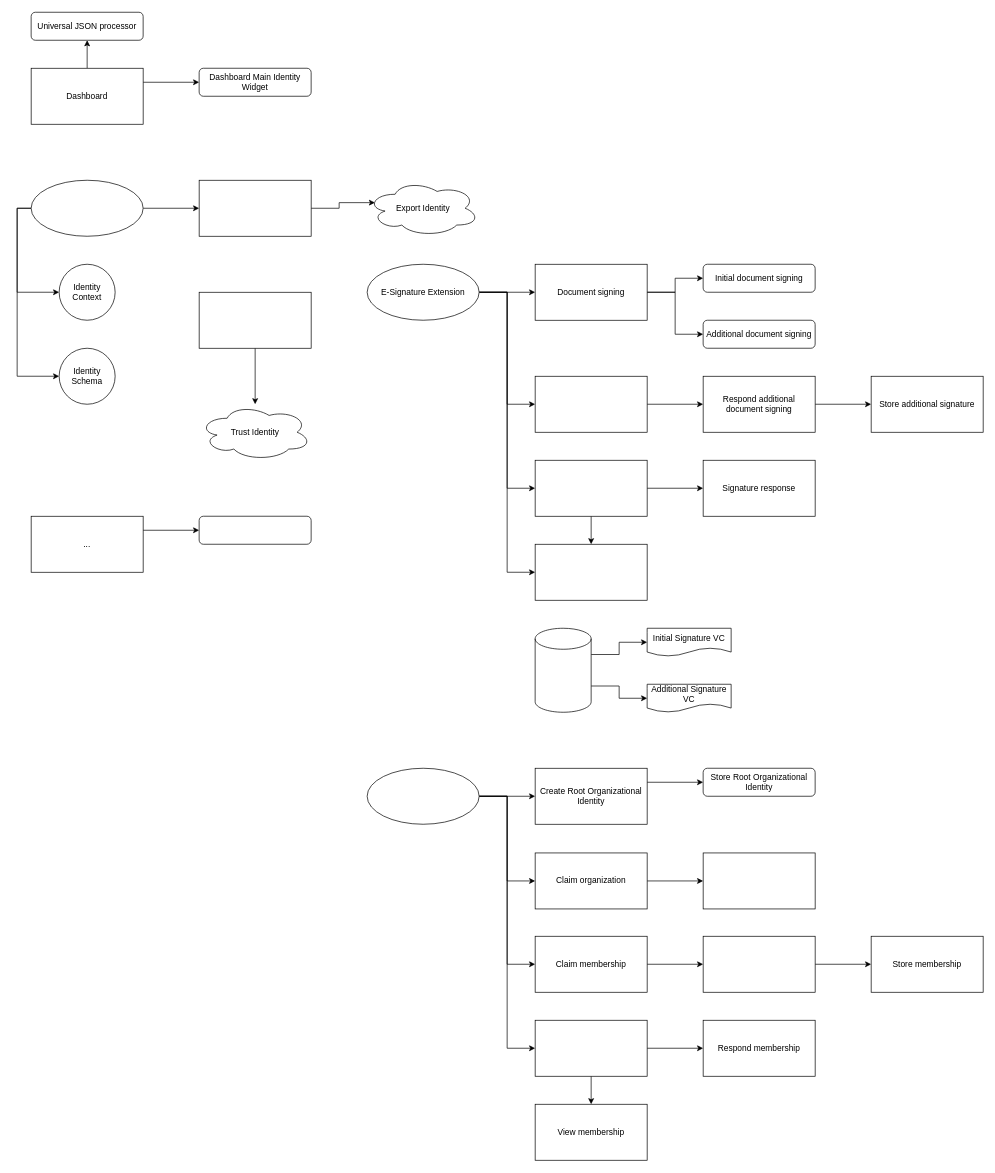
This 995x1173 diagram has some shape labels left out. Here are the shapes that lost their labels. From the top down, the centre of each, then its label:
(x=86, y=208): Identity Extension
(x=254, y=208): Self-Issuing Identity
(x=254, y=320): View Identity
(x=590, y=404): Request additional document signing
(x=590, y=488): Signature request
(x=254, y=530): Inlined identity widget
(x=590, y=572): Signature view
(x=562, y=670): Document source
(x=422, y=796): Decentralized groups extension
(x=758, y=880): Offer organization
(x=758, y=964): Offer membership
(x=590, y=1048): Request membership
